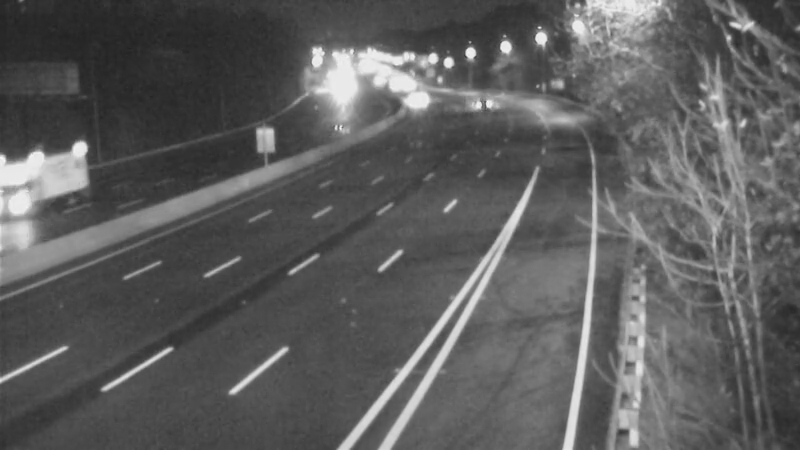vehicle: (1, 164, 74, 244), (388, 77, 438, 127), (459, 71, 509, 121)
